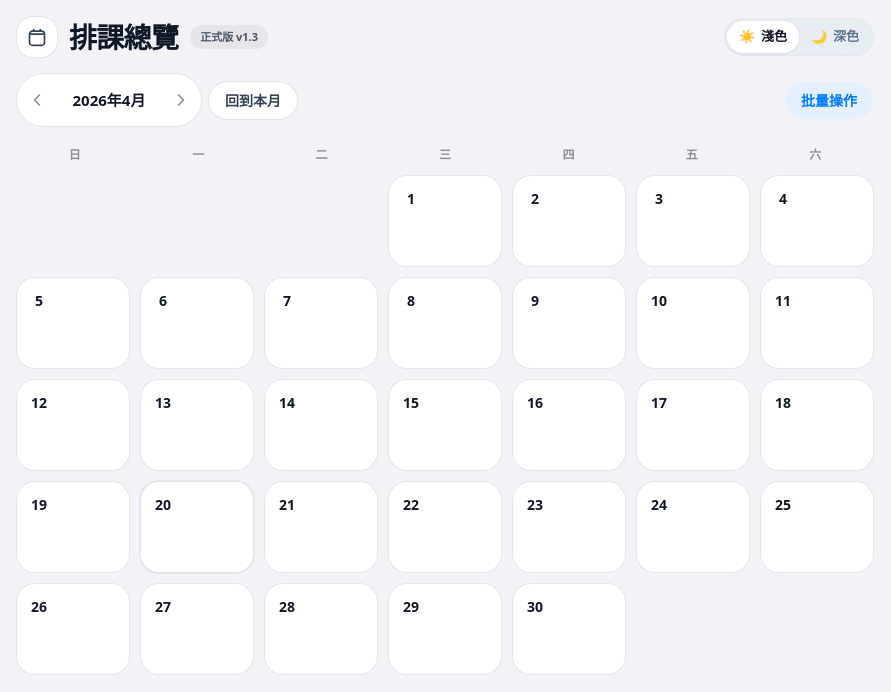
it: MonthPage header month picker › updates the displayed month and selectedDate when the native input changes
This screenshot has width=891, height=692.
Type "2026-06-18" into the date field named "選擇月份" at [109, 100], box [72,90,146,110]
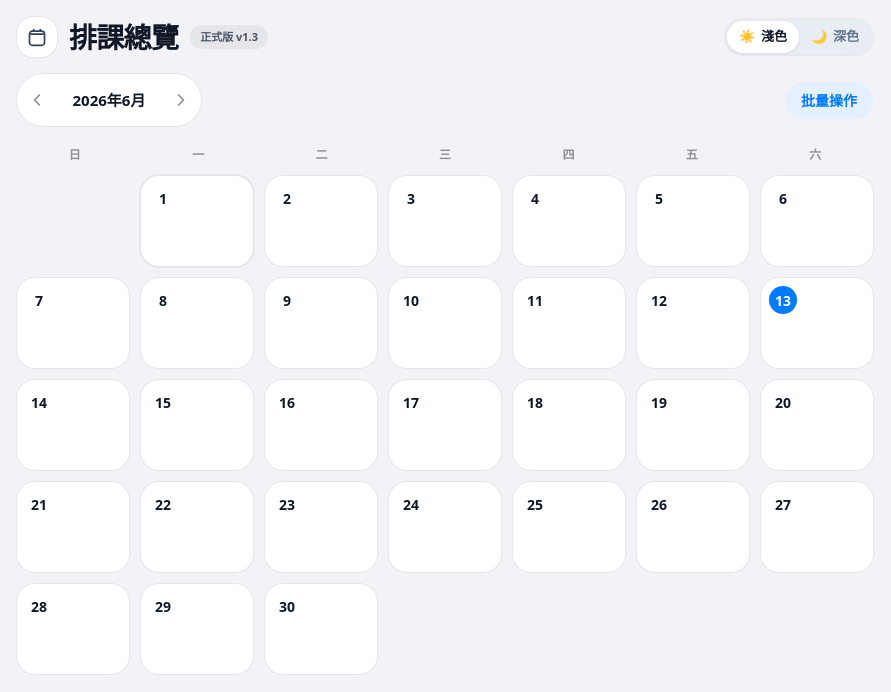
Now the text "2026年6月" is shown, box [72,89,146,111]
